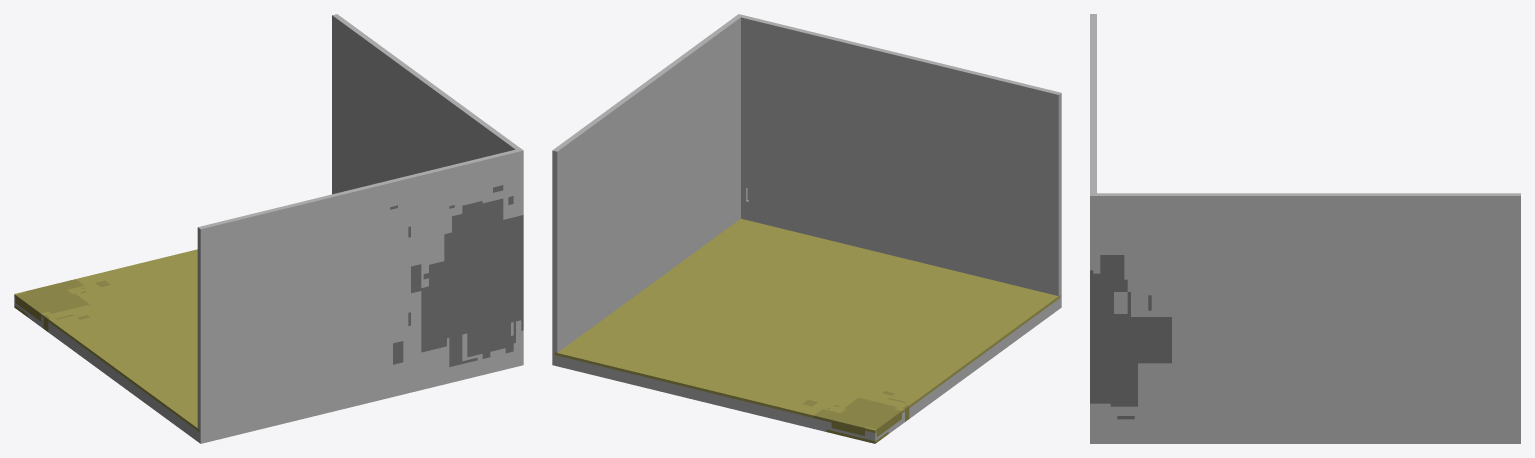
The model's file is 2x2 first (2)-3.obj.
3 views of the same model, side by side, from view 1: azimuth 30°, elevation 25°; view 2: azimuth 150°, elevation 25°; view 3: azimuth 270°, elevation 25° (orthographic). The views are drawn at different scales.
Parts seen in each view (by area): view 1: 2x2 first (2)-3; view 2: 2x2 first (2)-3; view 3: 2x2 first (2)-3.
Boxes of the visible parts, x1,y1,x2,y2 form: 2x2 first (2)-3: [14, 14, 523, 443]; 2x2 first (2)-3: [552, 14, 1061, 443]; 2x2 first (2)-3: [1090, 14, 1520, 443].
Size of the model in its own units: 126 by 80 by 126.
Materials: 1 (1 with a texture image).
